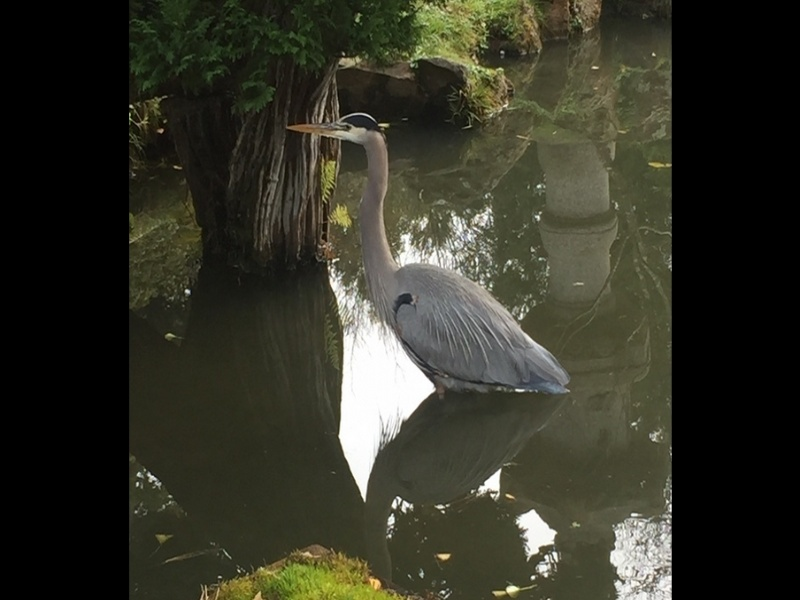heron: (285, 106, 571, 403)
